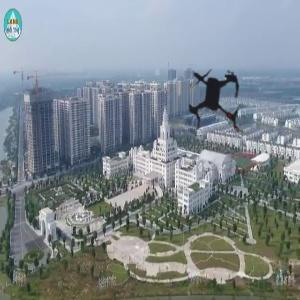drone: (143, 29, 282, 168)
